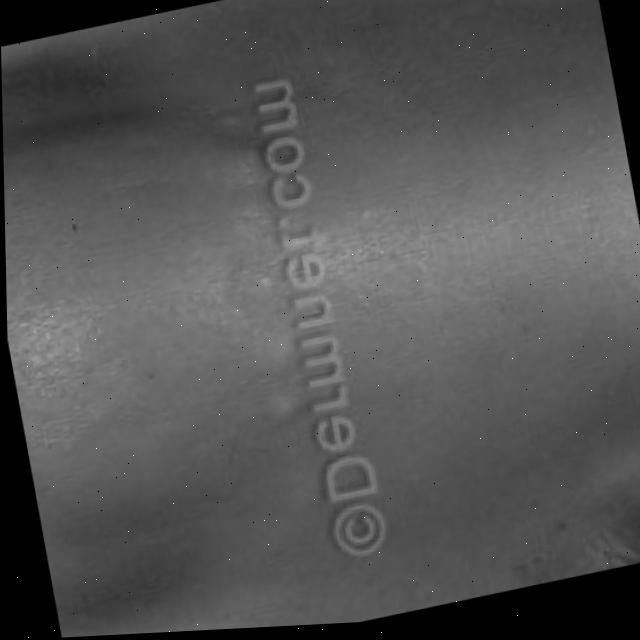Acne: (209, 124, 329, 427)
